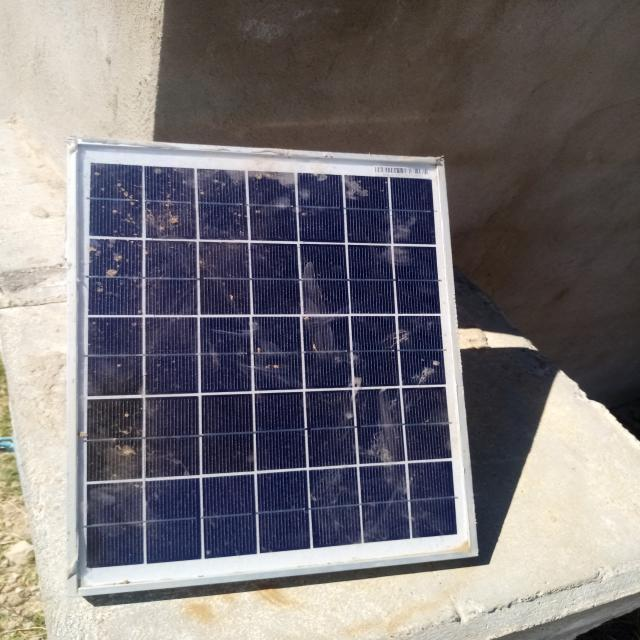faulty: (73, 140, 476, 594)
